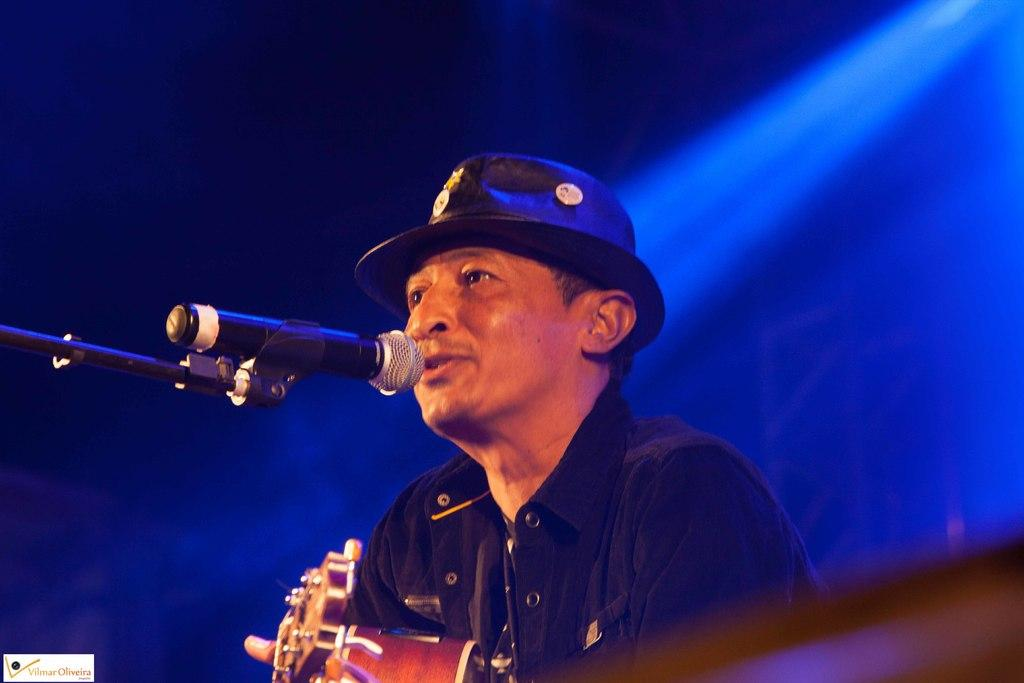Hat: (352, 158, 660, 366)
